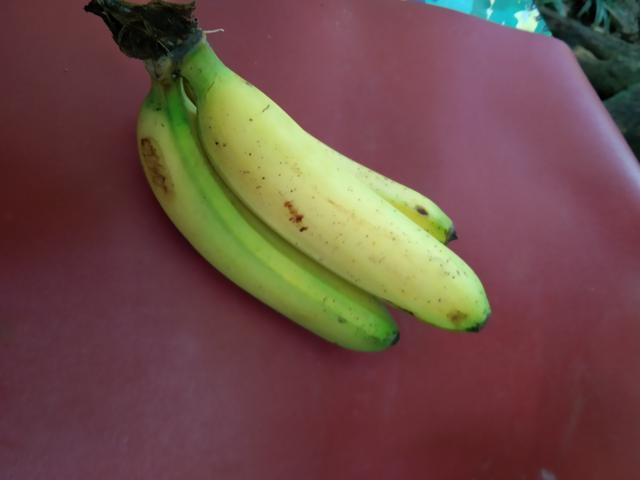freshripe: (191, 74, 506, 338), (127, 109, 390, 361)
